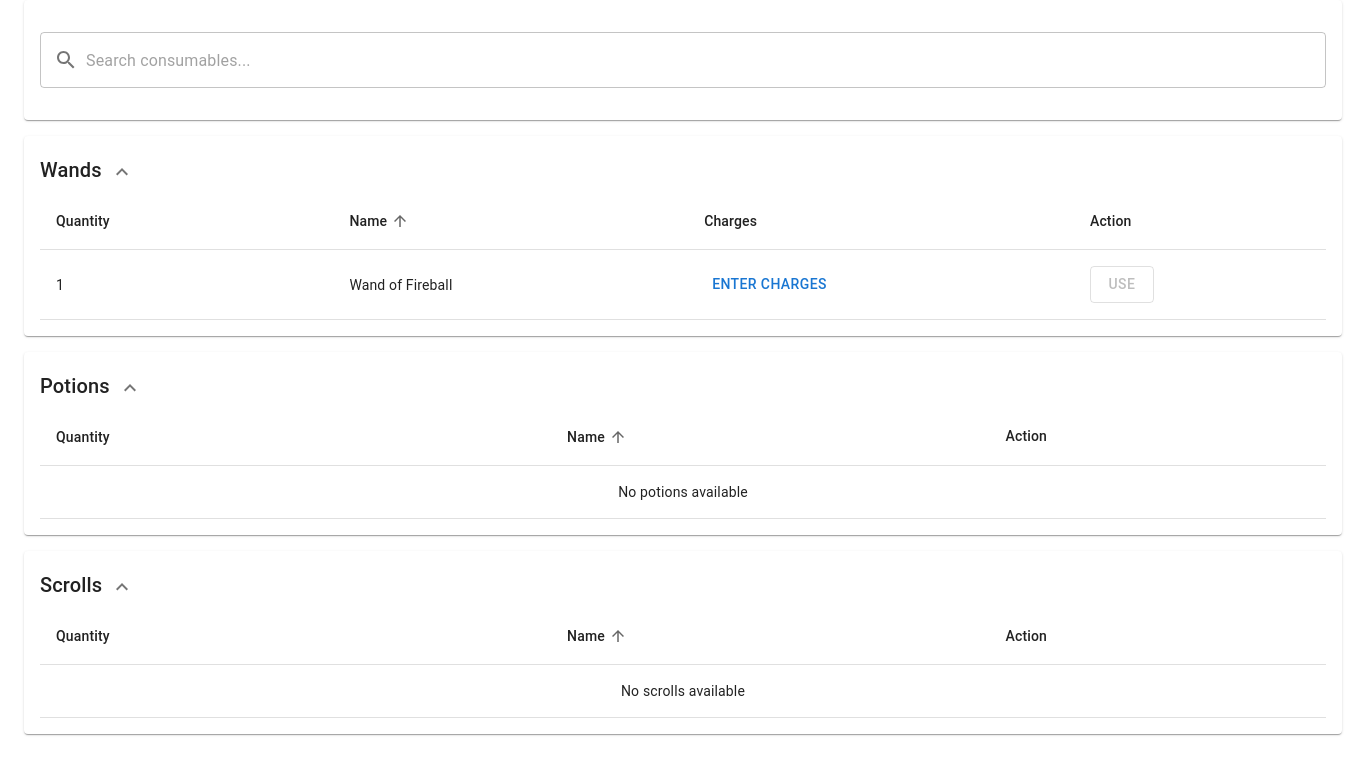
Consumables › keeps the charges dialog open and explains a failed update (F-1116)
Click the button "Enter Charges". click: (769, 285)
box: [704,266,835,303]
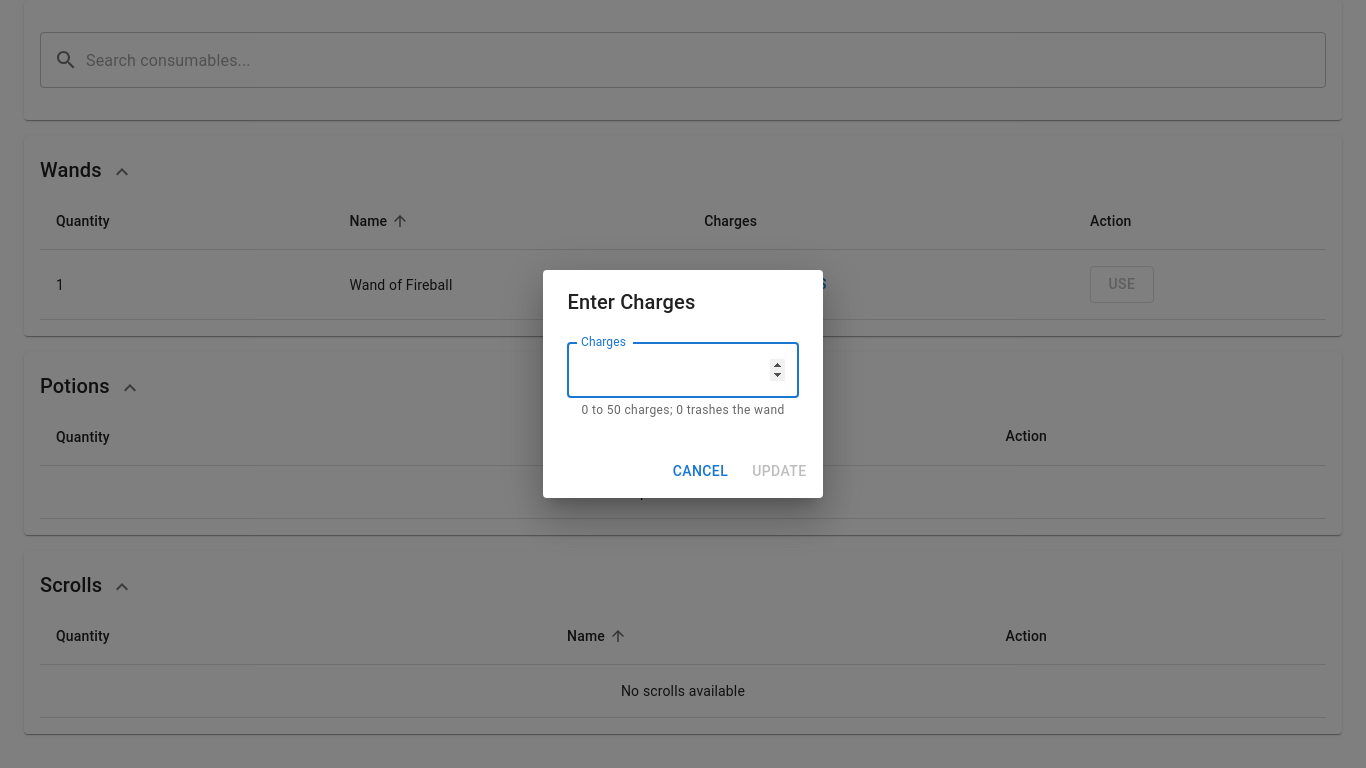
Type "20" into the number field labelled "Charges". click: (683, 370)
box: [567,342,799,398]
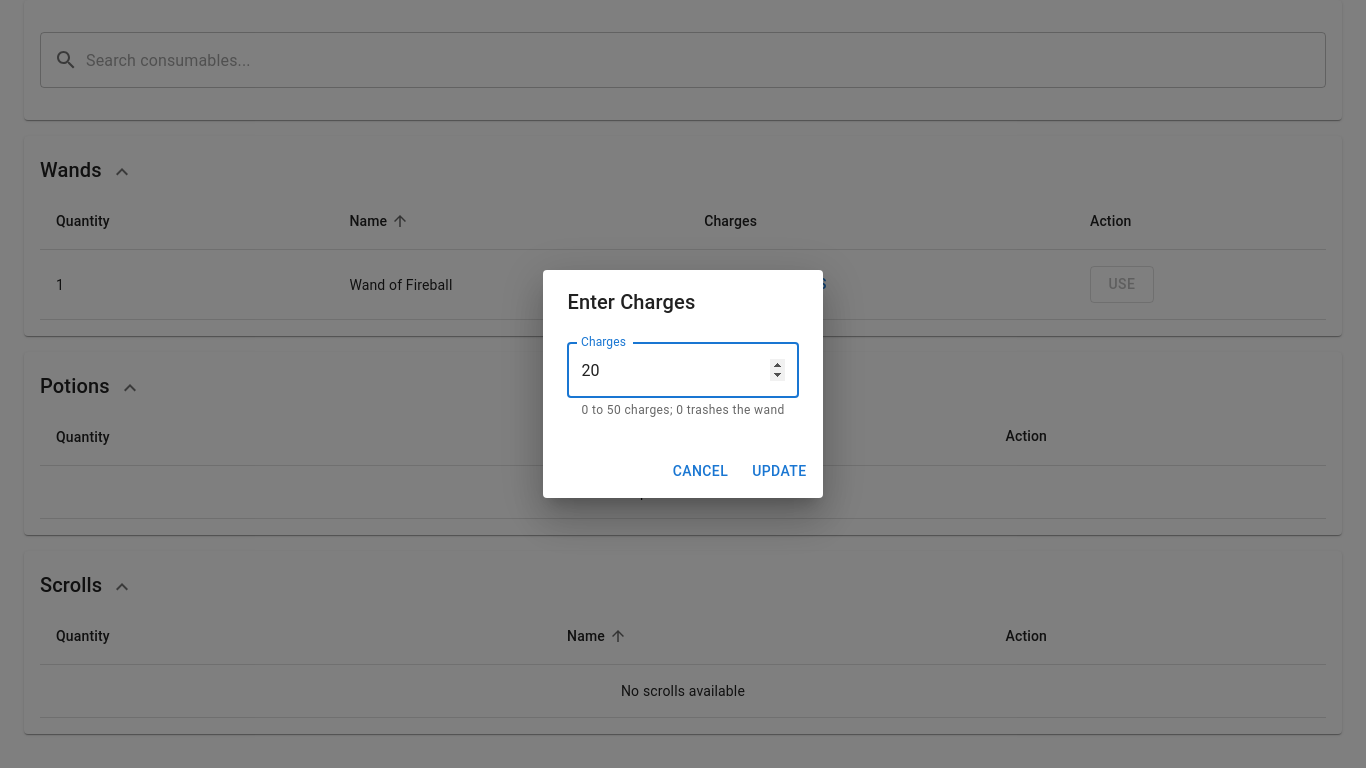
Click the button "Update". click: (779, 471)
box: [744,453,815,490]
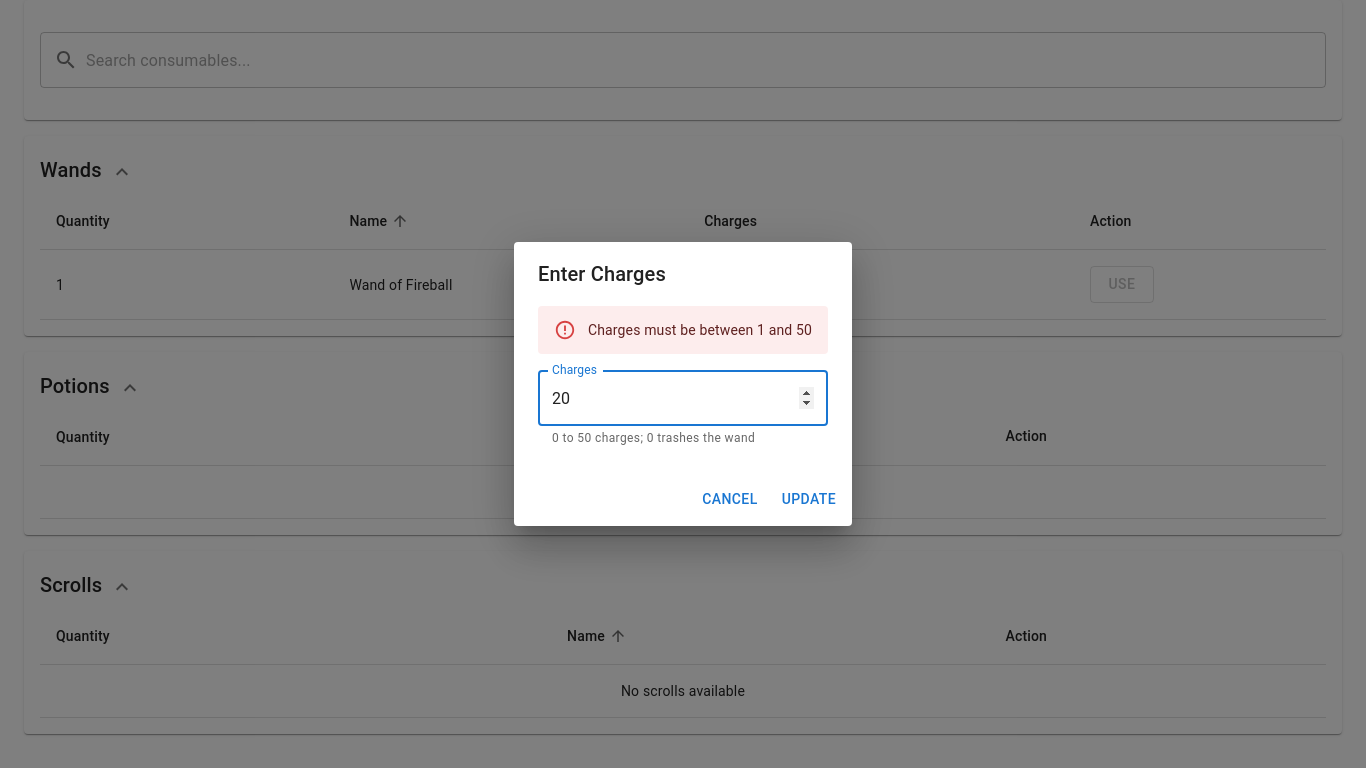
Now the button "Update" is shown, box [774,481,844,518]
Now the text "Charges must be between 1 and 50" is shown, box [588,322,812,338]
